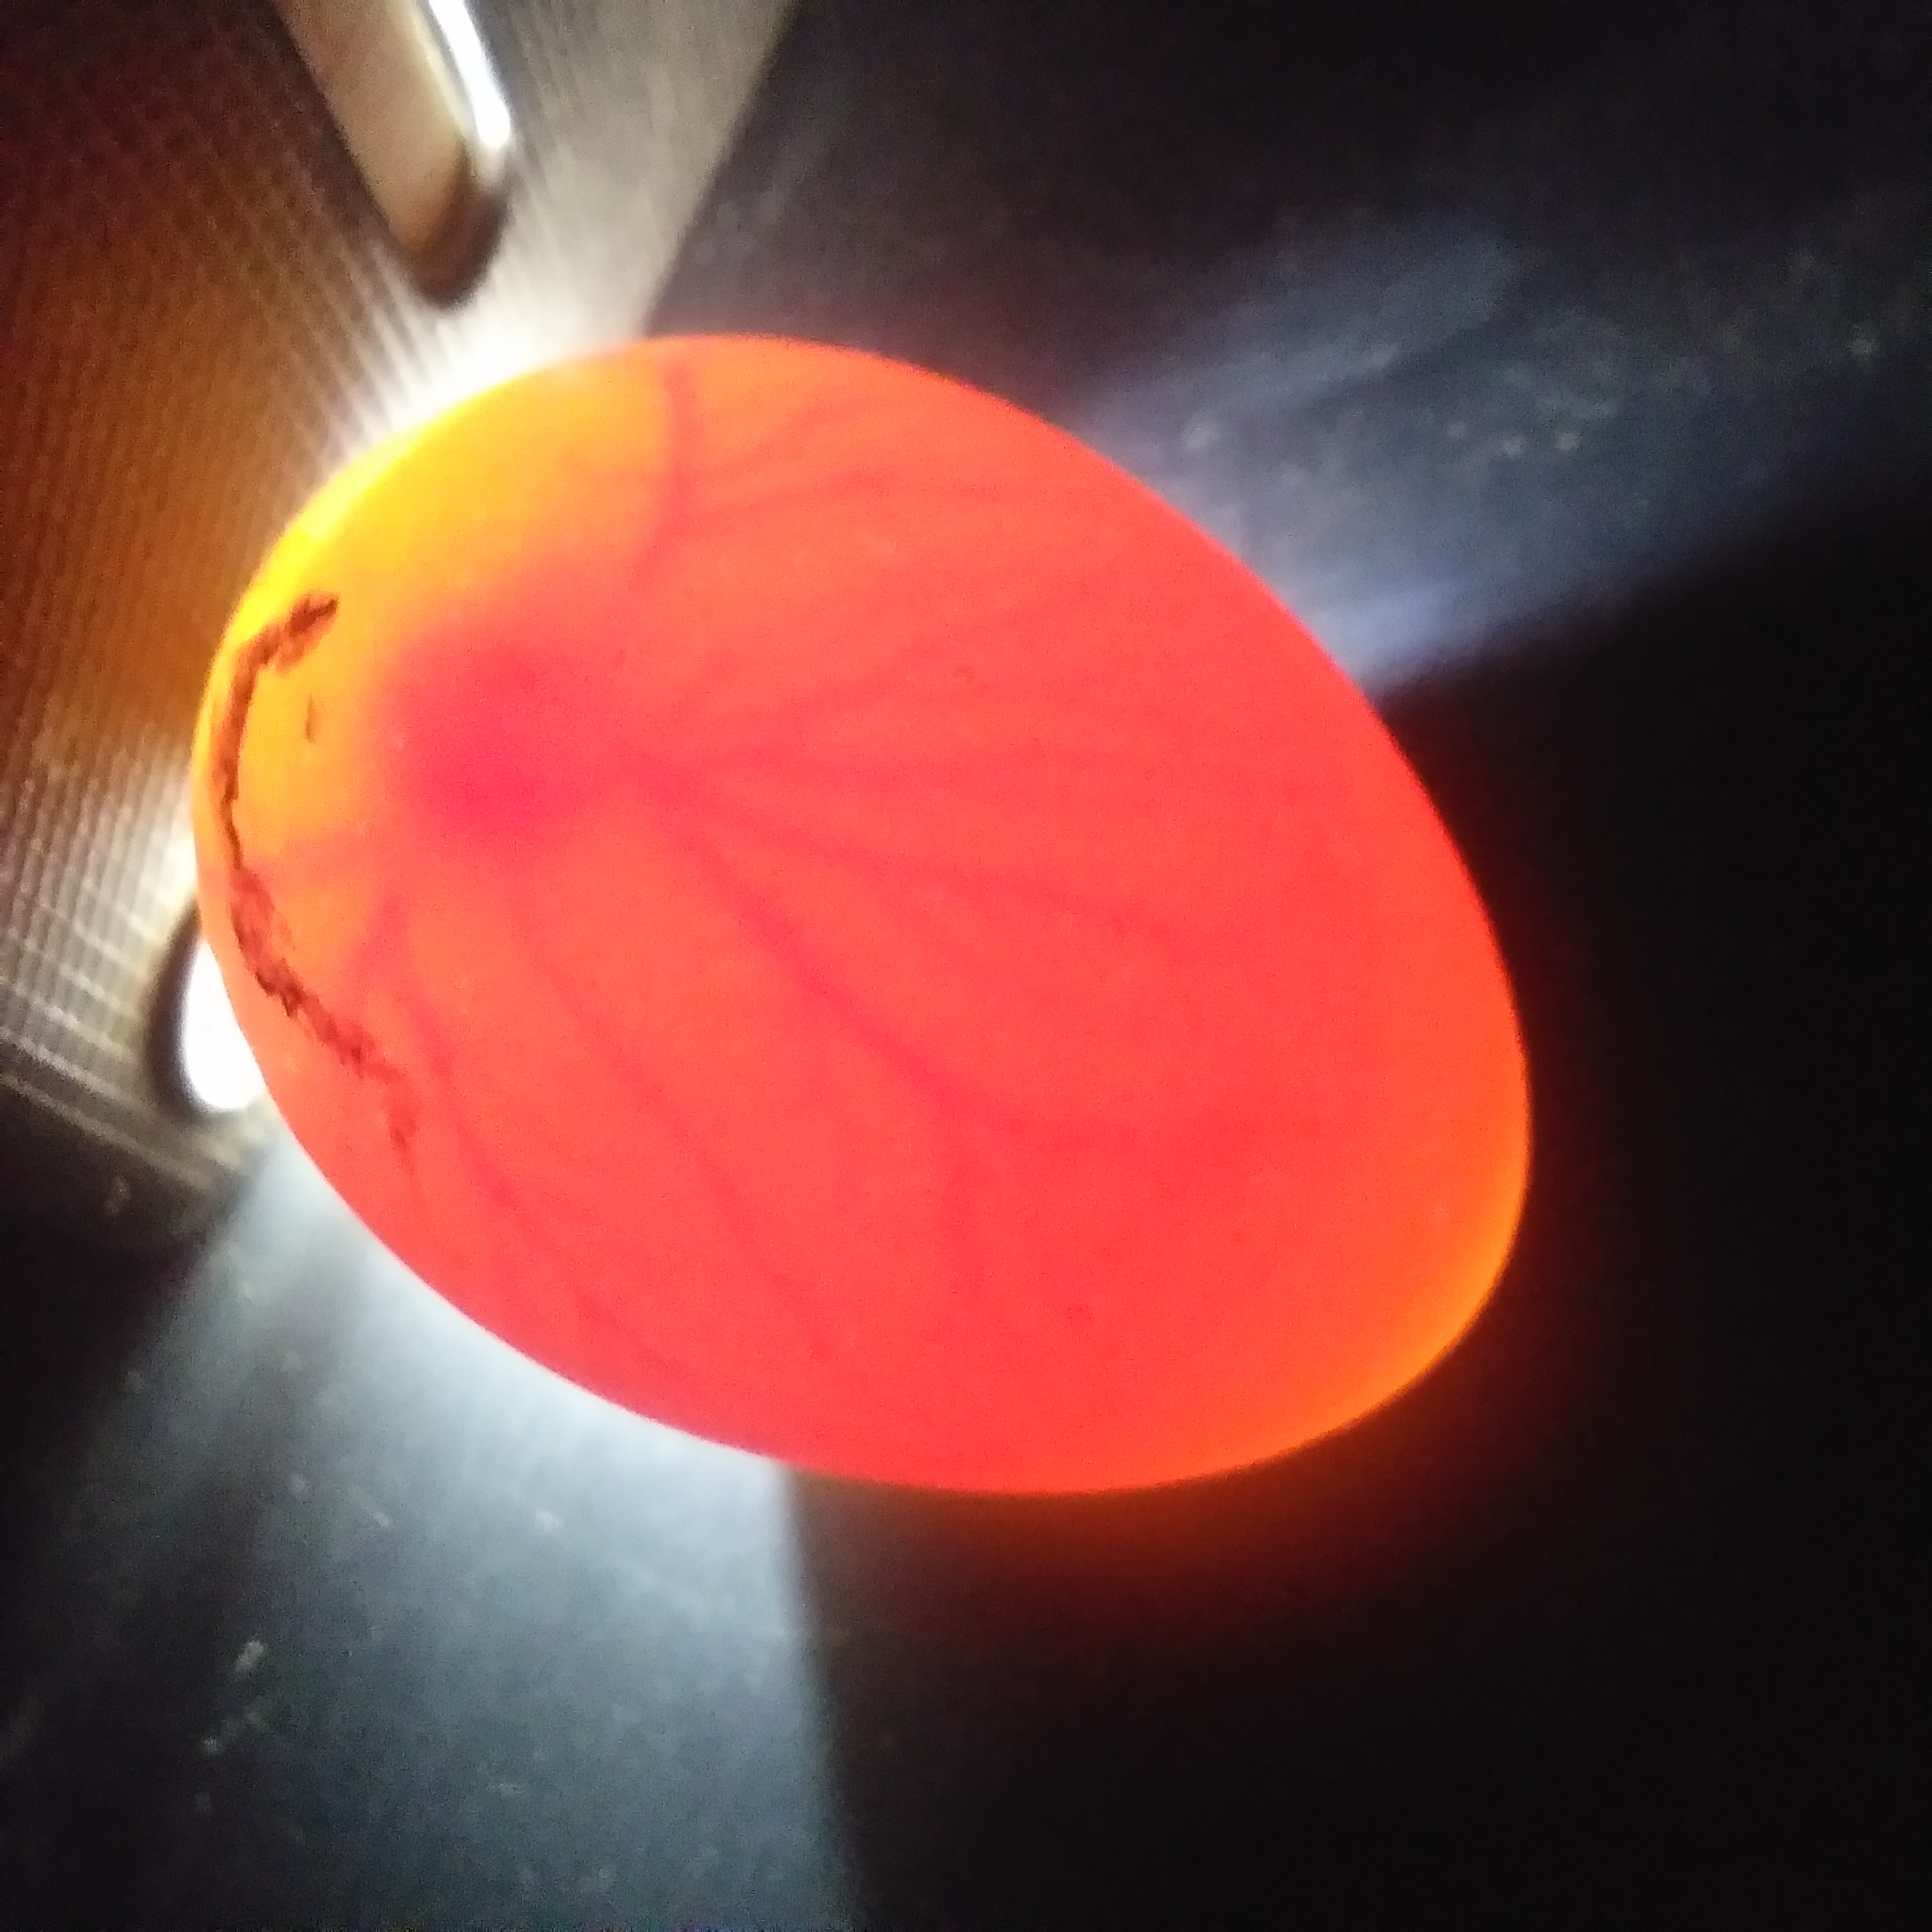bloodcell: (621, 497, 1208, 1325)
embryo: (387, 632, 596, 833)
